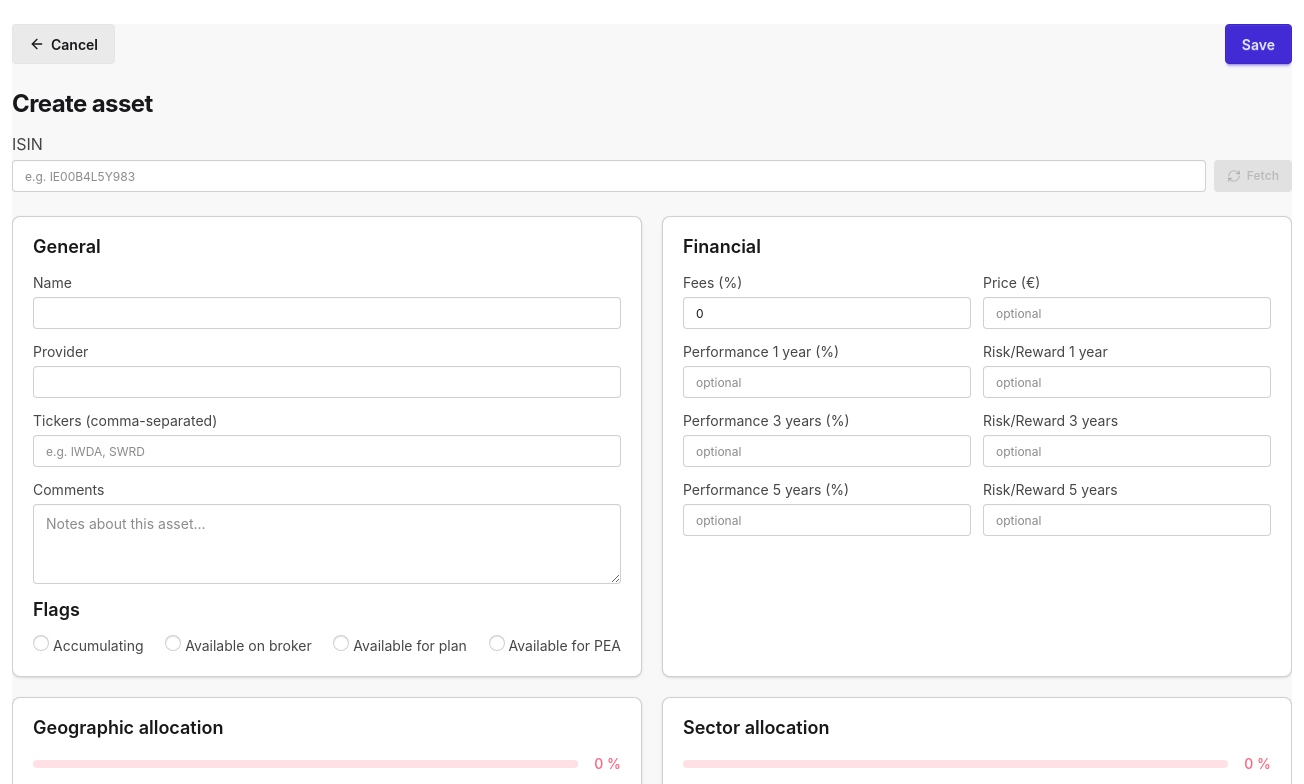
Test: AssetCreatePage › clears name error when user corrects the name field
This screenshot has width=1304, height=784.
Type "IE00B4L5Y983" into the field with test id "isin". click: (609,176)
box: [12,160,1206,192]
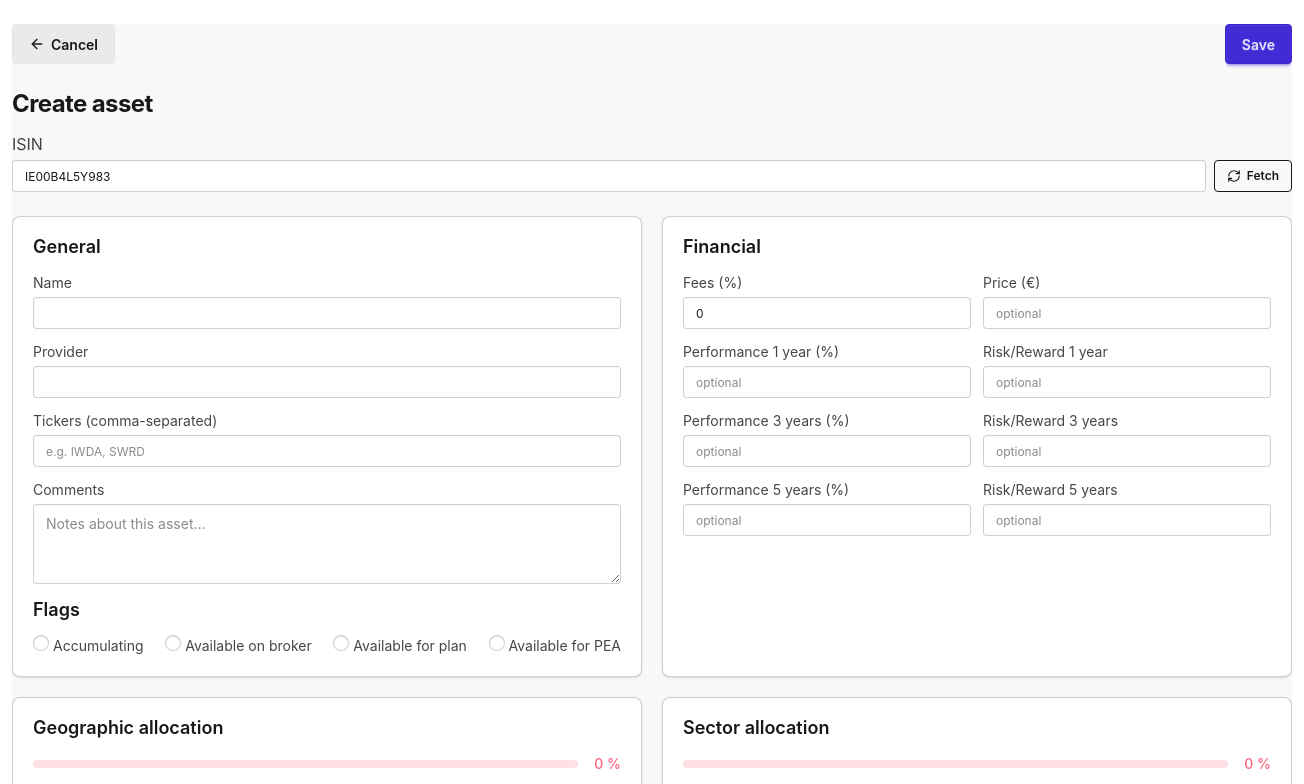
Click the button with test id "save-button". click: (1258,44)
box: [1225,24,1292,64]
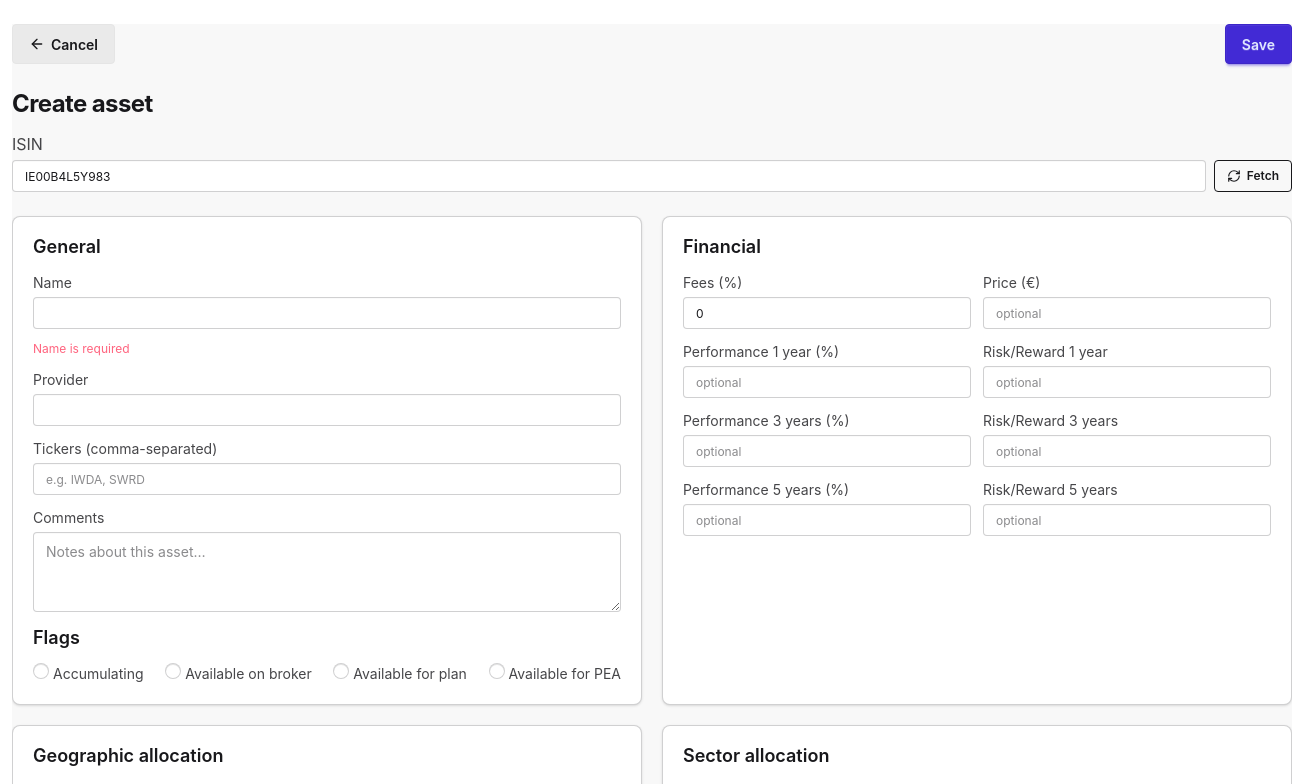
Now the text "Name is required" is shown, box [33,341,130,356]
Type "Fixed ETF" into the field with test id "name". click: (327,313)
box: [33,297,621,329]
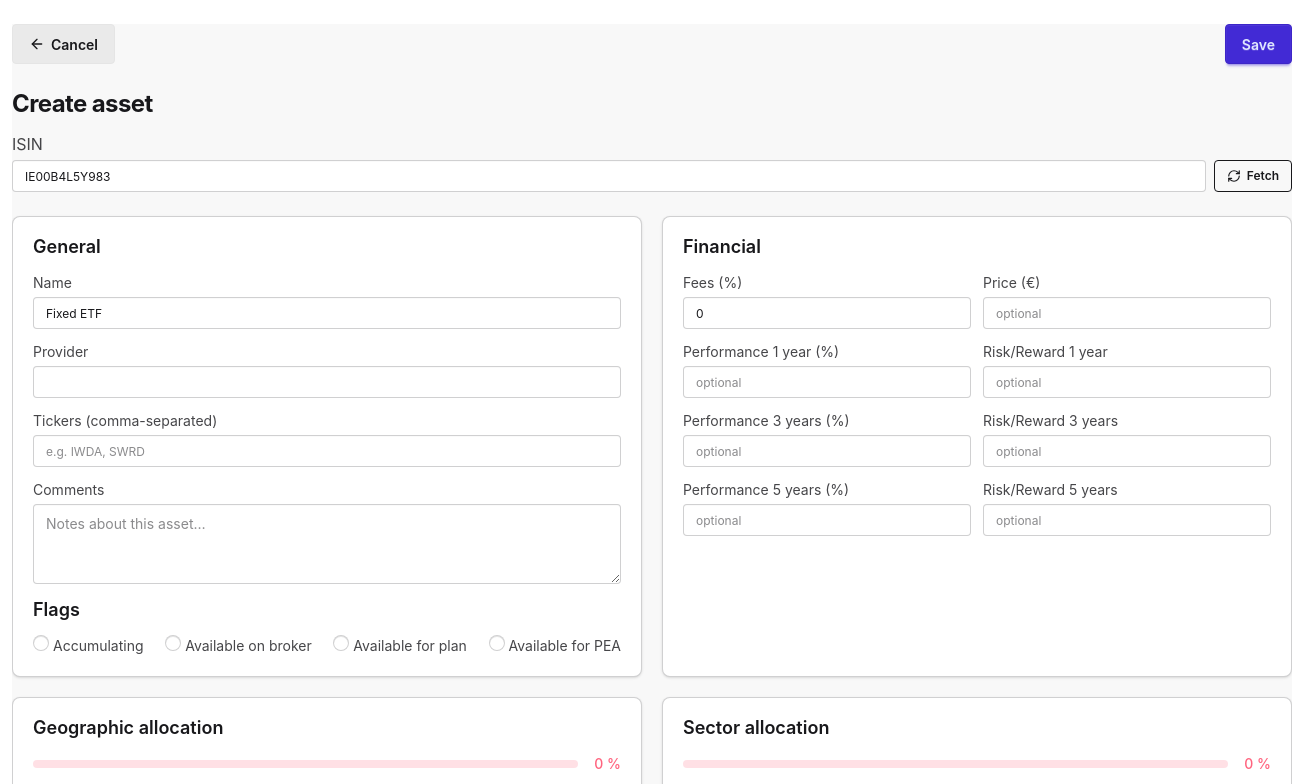
Now the text with test id "name-error" is gone
